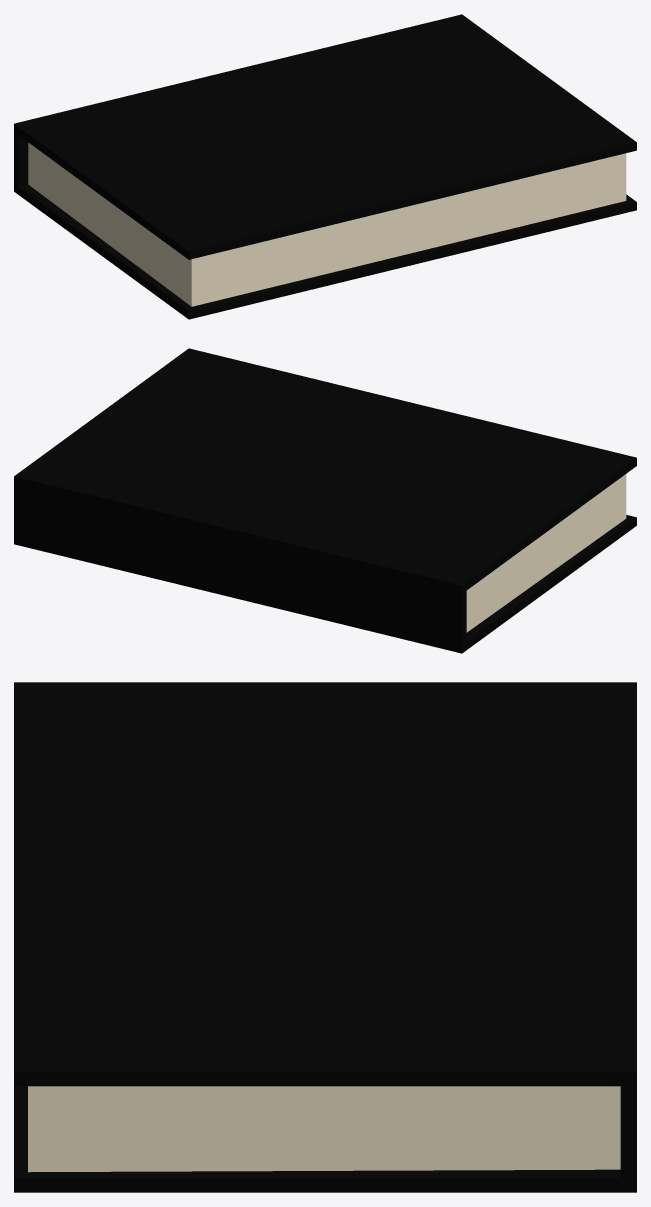
File: Prop_Book_03.fbx
3 renders of one model, top to bottom at view 1: azimuth 30°, elevation 25°; view 2: azimuth 150°, elevation 25°; view 3: azimuth 270°, elevation 25°, orthographic. The views are drawn at different scales.
Visible parts, largest first — view 1: Prop_Book_03; view 2: Prop_Book_03; view 3: Prop_Book_03.
Boxes of the visible parts, x1,y1,x2,y2 form: Prop_Book_03: (14,14,636,319); Prop_Book_03: (14,348,636,653); Prop_Book_03: (14,682,636,1192).
Size of the model in its own units: 32.39 by 4.69 by 21.9.
